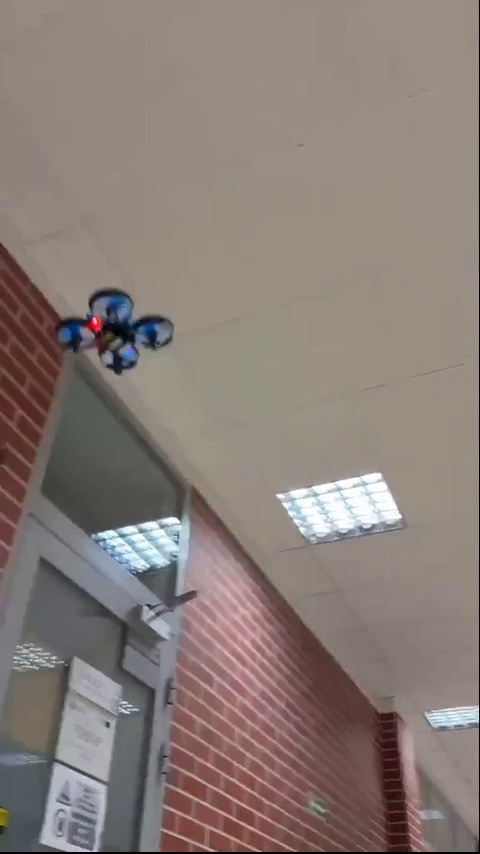drone: (50, 285, 176, 375)
